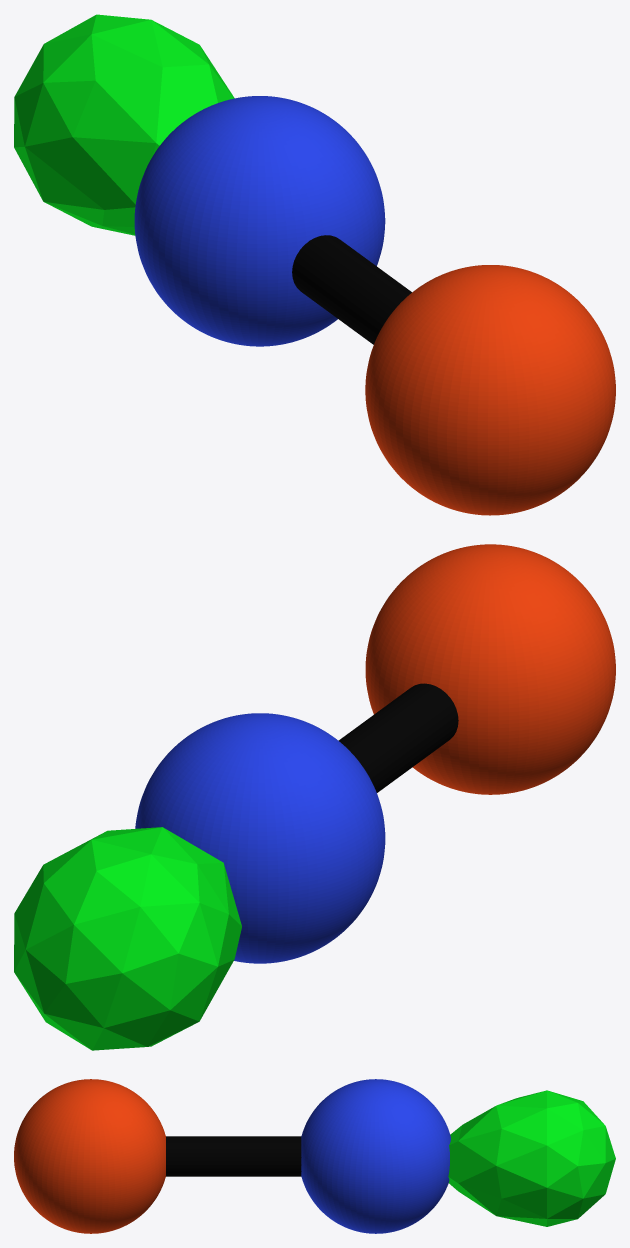
The model's file is chem stru_linear_1 lp.glb.
3 views of the same model, one above another, from view 1: azimuth 30°, elevation 25°; view 2: azimuth 150°, elevation 25°; view 3: azimuth 270°, elevation 25° (orthographic). The views are drawn at different scales.
Parts seen in each view (by area): view 1: Sphere.001, Sphere, Icosphere, Cylinder.001; view 2: Sphere.001, Sphere, Icosphere, Cylinder.001; view 3: Sphere.001, Sphere, Icosphere, Cylinder.001.
Part boxes in pixels (box(x1,y1,x2,y2)): Sphere.001: box(365, 265, 615, 515); Sphere: box(134, 96, 385, 346); Icosphere: box(14, 14, 234, 235); Cylinder.001: box(292, 235, 411, 344); Sphere.001: box(365, 544, 615, 794); Sphere: box(135, 713, 385, 963); Icosphere: box(14, 827, 241, 1050); Cylinder.001: box(338, 683, 458, 792); Sphere.001: box(14, 1079, 165, 1233); Sphere: box(301, 1079, 450, 1233); Icosphere: box(448, 1090, 615, 1226); Cylinder.001: box(166, 1136, 301, 1176).
Size of the model in its own units: 0.9795 by 0.9799 by 3.81.
